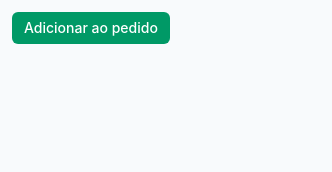
Test case: AddToOrderButton › chama a ação com o id do produto e mostra só a quantidade no pedido (sem link abaixo do produto)
The image size is (332, 172).
Click the button with aria-label "Adicionar CAM-01 ao pedido" at point(91, 28), box [12,12,170,44]
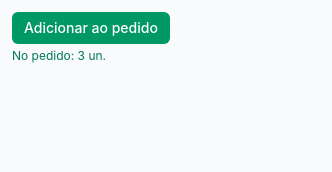
Now the message reads "No pedido: 3 un.", box [12,48,106,63]
